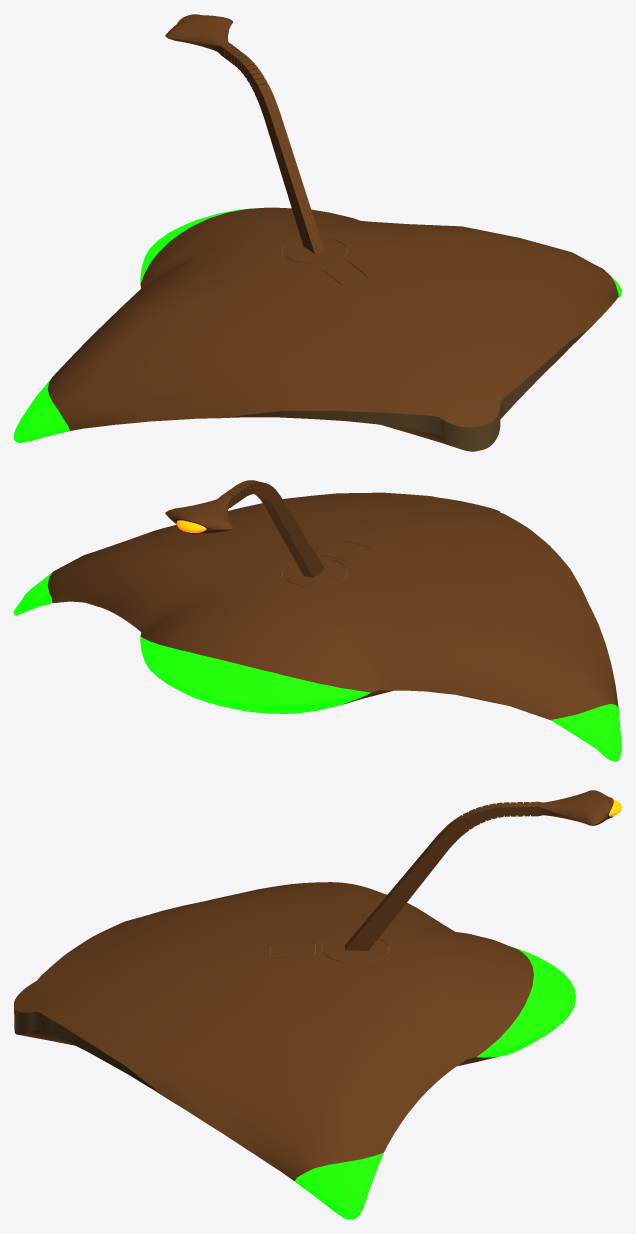
File: 1953_tripod.glb
3 views of the same model, one above another, from view 1: azimuth 30°, elevation 25°; view 2: azimuth 150°, elevation 25°; view 3: azimuth 270°, elevation 25° (orthographic). The views are drawn at different scales.
Parts seen in each view (by area): view 1: Component#116_17, Component#114_11, Component#17.001_2, Component#77_0, Component#112_15, Component#17.002_3, Component#94_5; view 2: Component#116_17, Component#94_5, Component#114_11, Component#77_0, Component#112_15, Component#77.001_1, Component#117_18; view 3: Component#116_17, Component#114_11, Component#94_5, Component#77.001_1, Component#17.002_3, Component#112_15.
Part boxes in pixels (bbox=[...]): Component#116_17: bbox=[47, 207, 618, 430]; Component#114_11: bbox=[220, 43, 324, 254]; Component#17.001_2: bbox=[227, 411, 480, 451]; Component#77_0: bbox=[14, 379, 69, 442]; Component#112_15: bbox=[165, 14, 232, 50]; Component#17.002_3: bbox=[480, 330, 587, 450]; Component#94_5: bbox=[140, 208, 258, 283]; Component#116_17: bbox=[47, 492, 618, 719]; Component#94_5: bbox=[140, 636, 370, 713]; Component#114_11: bbox=[221, 480, 324, 577]; Component#77_0: bbox=[551, 704, 621, 761]; Component#112_15: bbox=[165, 496, 232, 529]; Component#77.001_1: bbox=[14, 572, 53, 615]; Component#117_18: bbox=[52, 598, 549, 719]; Component#116_17: bbox=[14, 882, 533, 1180]; Component#114_11: bbox=[345, 801, 538, 950]; Component#94_5: bbox=[476, 947, 575, 1057]; Component#77.001_1: bbox=[294, 1153, 383, 1219]; Component#17.002_3: bbox=[14, 1007, 163, 1096]; Component#112_15: bbox=[538, 790, 613, 824].
Bounding box in the file's own units: 11.34 × 4.71 × 9.62.
Materials: 6 (2 with a texture image).
